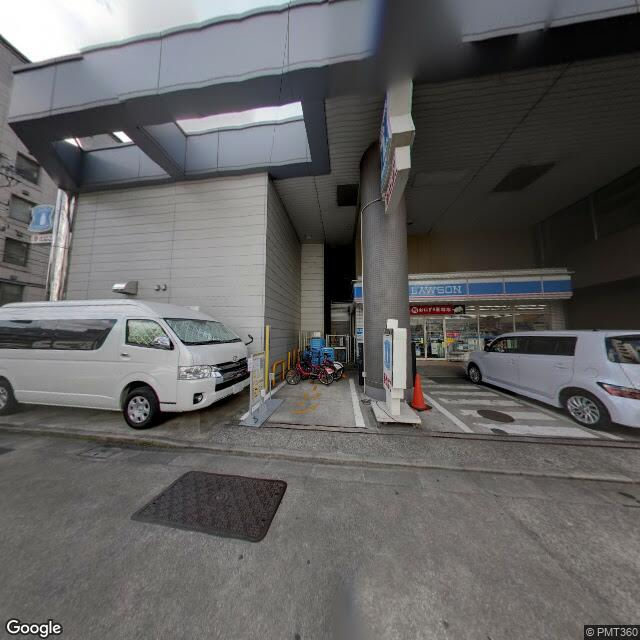lawson: (406, 272, 570, 303), (24, 202, 55, 234)
